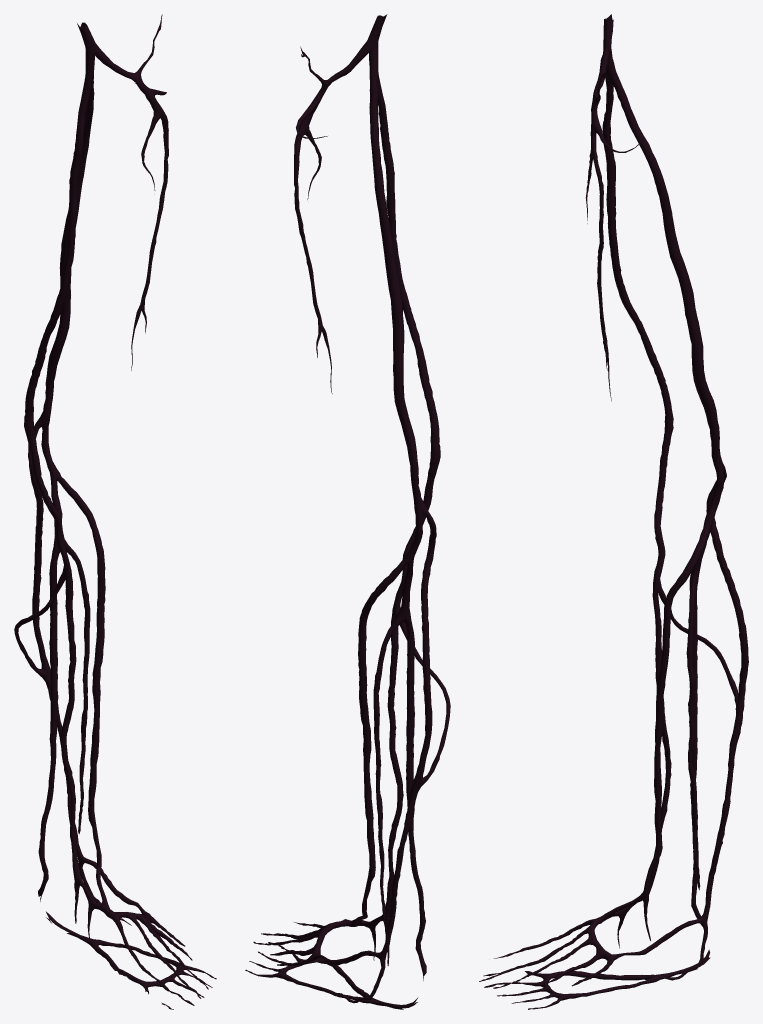
File: Veins_Intercostales_dorsales_lower.001.obj
3 views of the same model, side by side, from view 1: azimuth 30°, elevation 25°; view 2: azimuth 210°, elevation 25°; view 3: azimuth 270°, elevation 25° (orthographic).
Visible parts, largest first — view 1: Veins_Intercostales_dorsales_lower.001_Veins_lower.000; view 2: Veins_Intercostales_dorsales_lower.001_Veins_lower.000; view 3: Veins_Intercostales_dorsales_lower.001_Veins_lower.000.
Boxes of the visible parts, left/top/right/bottom form: Veins_Intercostales_dorsales_lower.001_Veins_lower.000: left=14, top=14, right=216, bottom=1009; Veins_Intercostales_dorsales_lower.001_Veins_lower.000: left=245, top=14, right=450, bottom=1009; Veins_Intercostales_dorsales_lower.001_Veins_lower.000: left=479, top=14, right=748, bottom=1009.
Bounding box in the file's own units: 0.6713 × 5 × 1.29.
